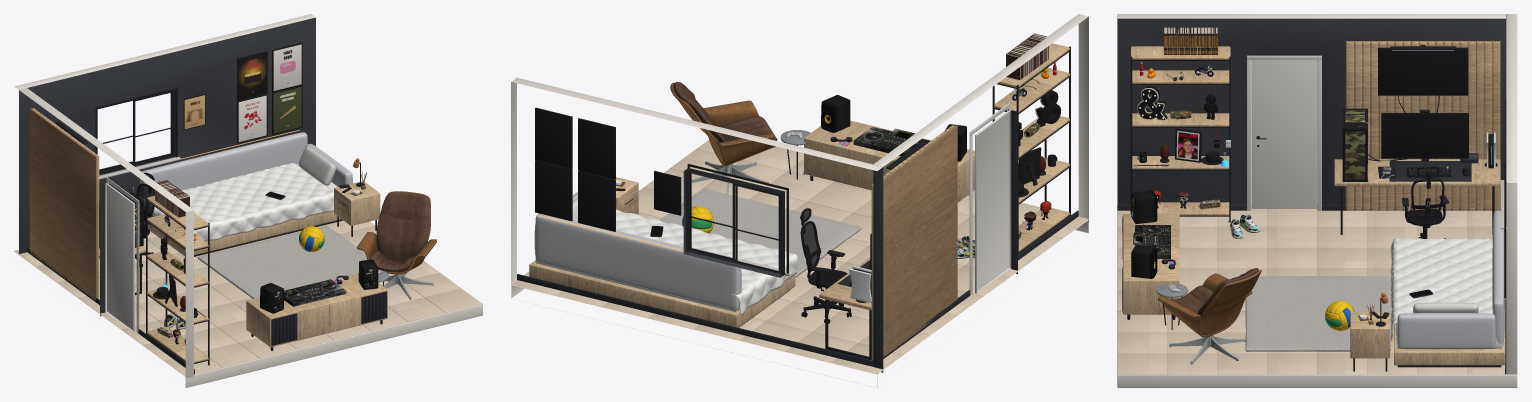
File: room-mobile.glb
3 views of the same model, side by side, from view 1: azimuth 30°, elevation 25°; view 2: azimuth 150°, elevation 25°; view 3: azimuth 270°, elevation 25° (orthographic). The views are drawn at different scales.
Visible parts, largest first — view 1: shell__fixo, props-bed__fixo, furniture-bed__fixo, furniture-front__fixo, furniture-desk__fixo, furniture-niche__fixo, props-niche__fixo, props-desk__dyn-chair; view 2: shell__fixo, furniture-bed__fixo, furniture-desk__fixo, furniture-front__fixo, props-bed__fixo, furniture-niche__fixo, props-niche__fixo, props-desk__dyn-chair, props-desk__fixo, props-niche__hotspot-about, props-niche__hotspot-lamp; view 3: shell__fixo, props-bed__fixo, furniture-desk__fixo, furniture-front__fixo, furniture-bed__fixo, furniture-niche__fixo, furniture-desk__hotspot-experience, furniture-desk__hotspot-projects, props-niche__fixo, props-desk__fixo, props-desk__dyn-chair, props-niche__hotspot-about (+2 smaller).
Boxes of the visible parts, <box> form: shell__fixo: <box>14,14,482,387</box>; props-bed__fixo: <box>139,147,367,298</box>; furniture-bed__fixo: <box>140,42,380,256</box>; furniture-front__fixo: <box>246,191,436,350</box>; furniture-desk__fixo: <box>29,108,145,300</box>; furniture-niche__fixo: <box>146,195,209,365</box>; props-niche__fixo: <box>153,180,205,344</box>; props-desk__dyn-chair: <box>135,172,154,267</box>; shell__fixo: <box>511,14,1088,387</box>; furniture-bed__fixo: <box>529,107,795,327</box>; furniture-desk__fixo: <box>819,125,958,360</box>; furniture-front__fixo: <box>670,81,974,202</box>; props-bed__fixo: <box>535,188,861,315</box>; furniture-niche__fixo: <box>992,43,1070,253</box>; props-niche__fixo: <box>1006,33,1057,239</box>; props-desk__dyn-chair: <box>800,208,851,323</box>; props-desk__fixo: <box>837,260,871,303</box>; props-niche__hotspot-about: <box>1018,147,1041,185</box>; props-niche__hotspot-lamp: <box>1034,90,1060,127</box>; shell__fixo: <box>1117,14,1517,387</box>; props-bed__fixo: <box>1245,238,1502,351</box>; furniture-desk__fixo: <box>1334,41,1500,234</box>; furniture-front__fixo: <box>1122,190,1261,364</box>; furniture-bed__fixo: <box>1350,162,1505,371</box>; furniture-niche__fixo: <box>1130,45,1230,222</box>; furniture-desk__hotspot-experience: <box>1378,45,1468,95</box>; furniture-desk__hotspot-projects: <box>1381,109,1468,161</box>; props-niche__fixo: <box>1134,27,1230,209</box>; props-desk__fixo: <box>1363,95,1497,182</box>; props-desk__dyn-chair: <box>1402,166,1449,238</box>; props-niche__hotspot-about: <box>1175,128,1201,162</box>.
Bounding box in the file's own units: 10.6 × 6 × 10.6.
108 materials, 60 textured.
